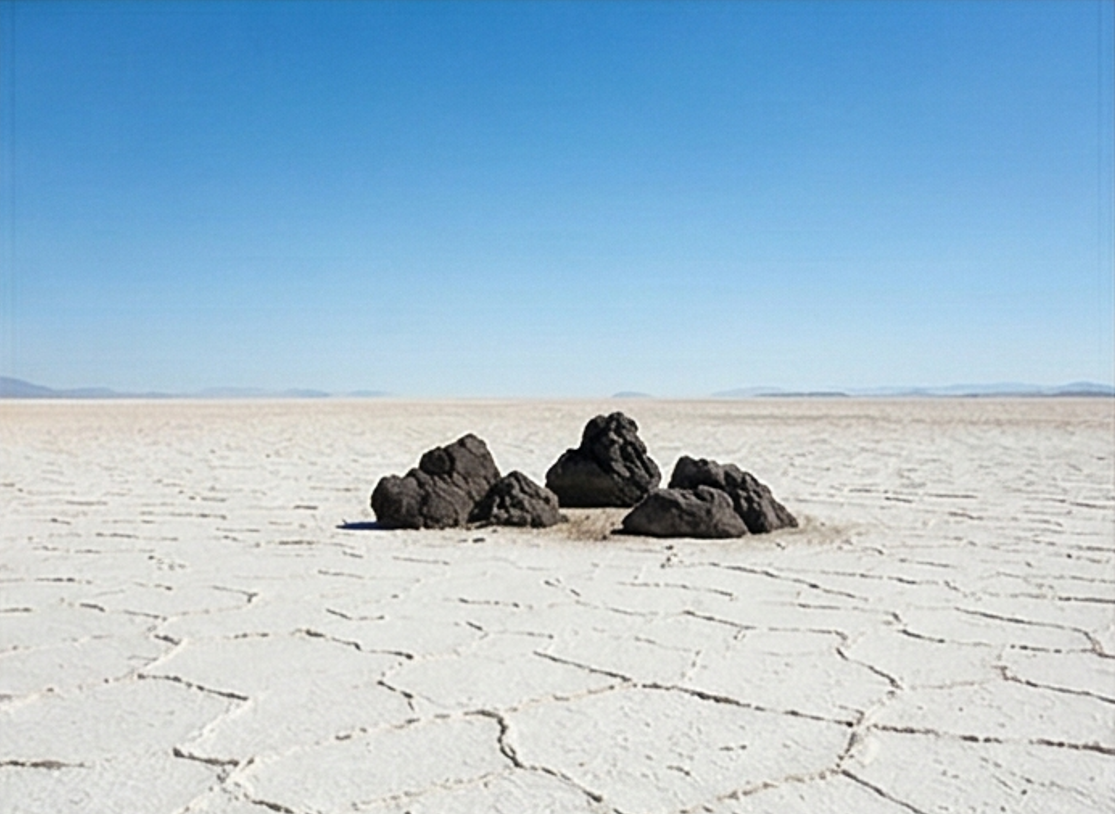rocks: (371, 412, 796, 537)
